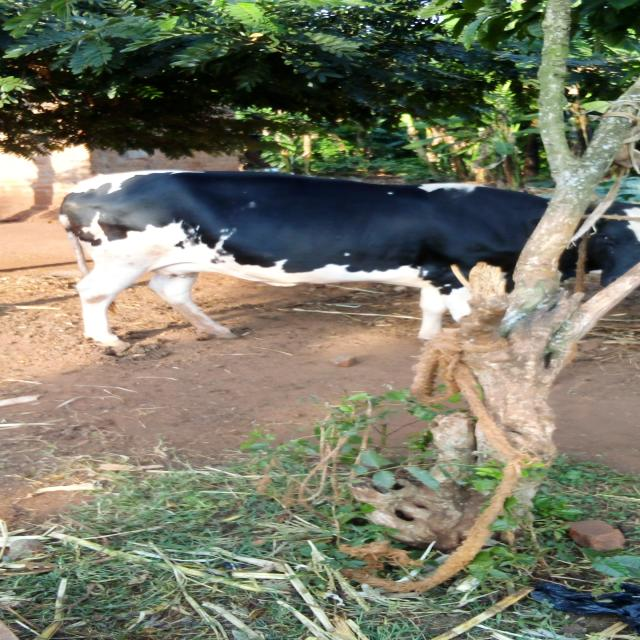Right: (61, 170, 544, 349)
